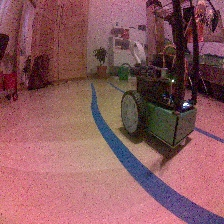rob: (119, 51, 197, 149)
